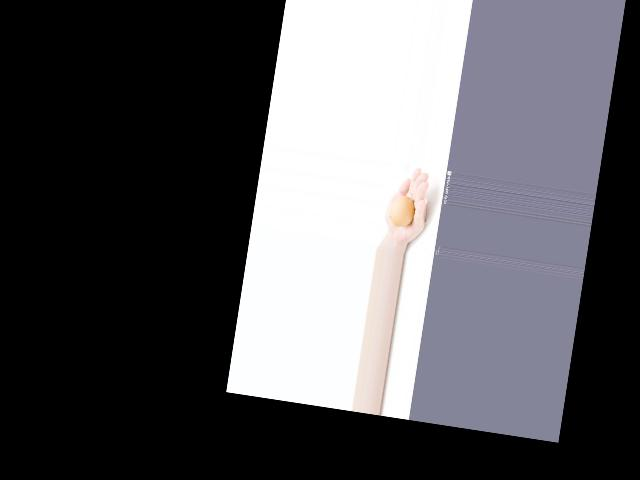egg: (387, 194, 416, 229)
